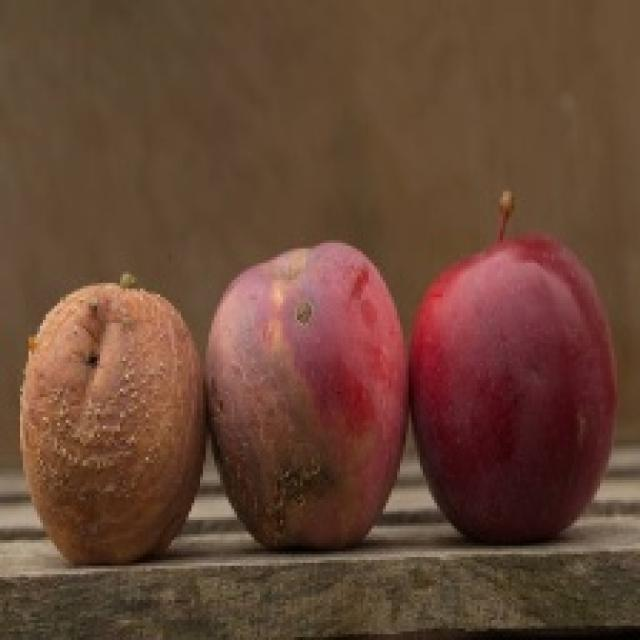rotten_apple: (210, 247, 407, 544), (24, 288, 202, 552)
